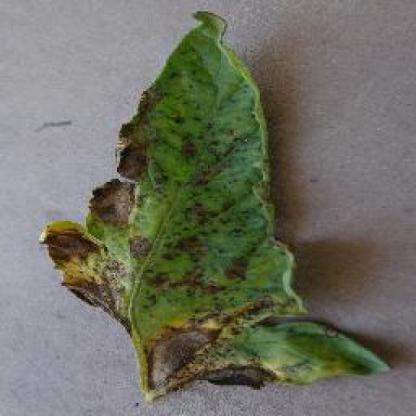Tomato_Blight: (40, 10, 391, 384)
